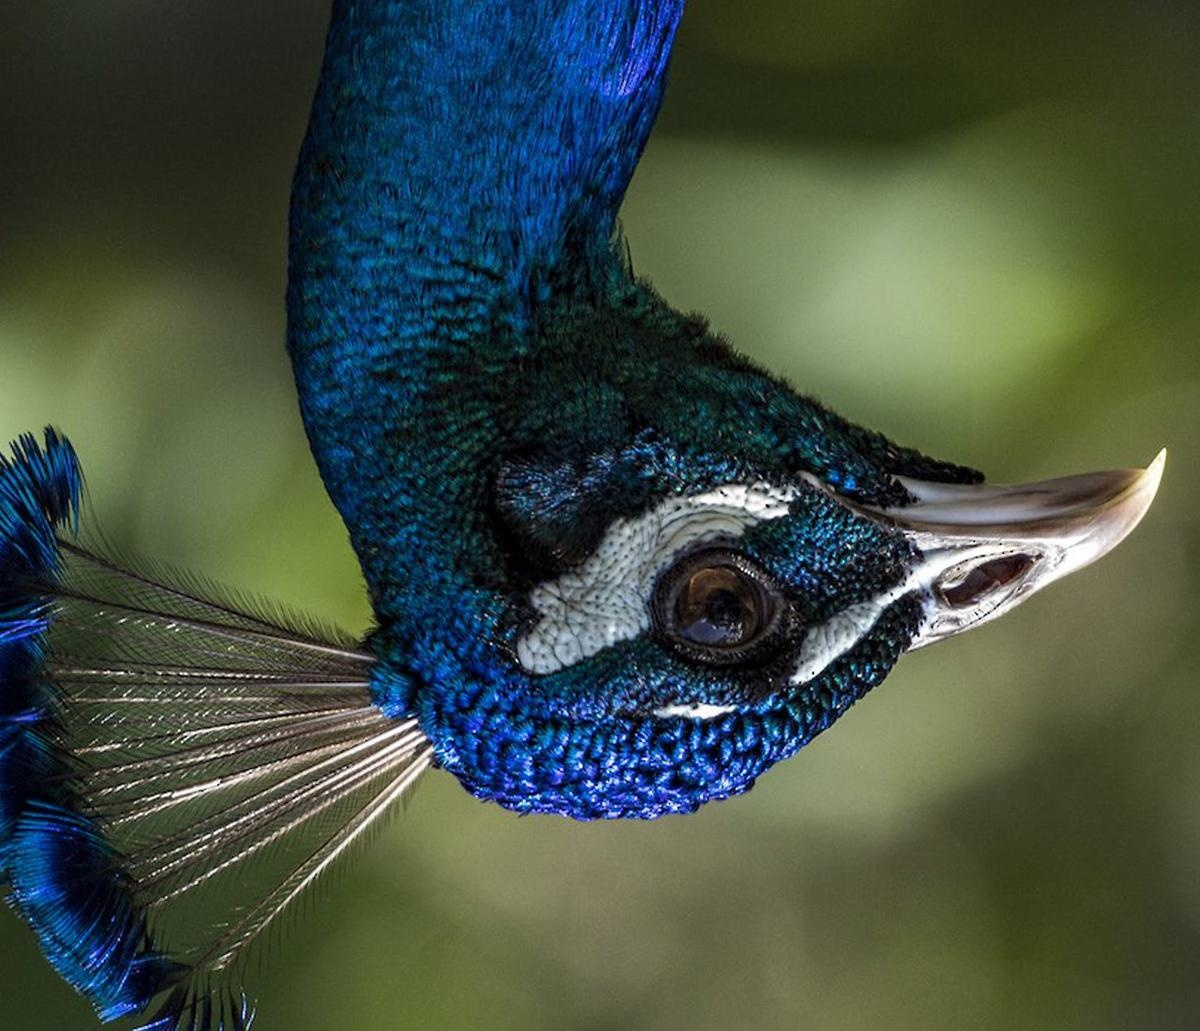peacock: (1, 2, 1170, 970)
